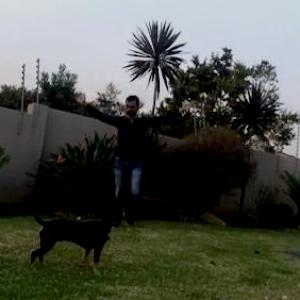takeoff: (83, 96, 206, 223)
